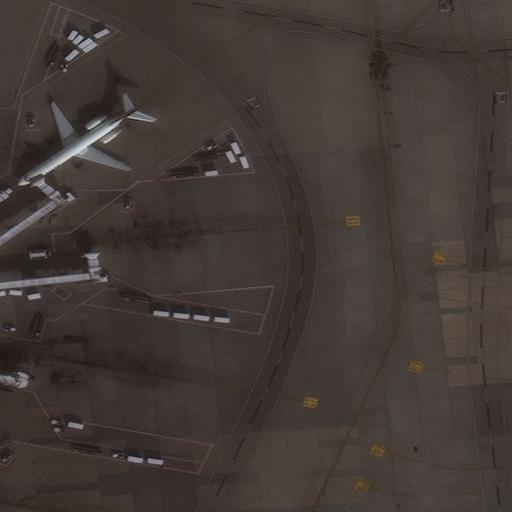Medium Civil Transport: (17, 104, 138, 185)
